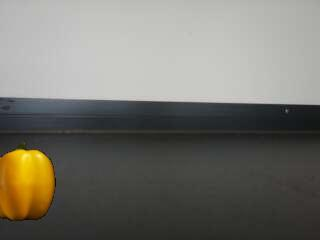Capsicum: (0, 142, 56, 220)
